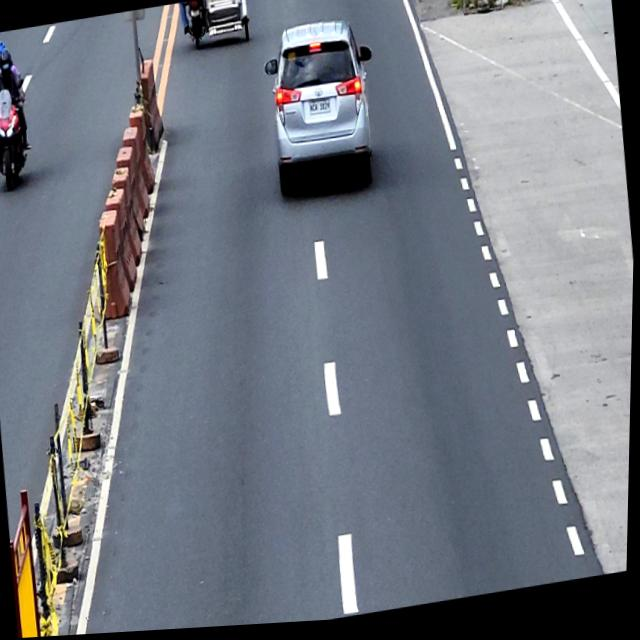Car: (258, 15, 386, 203)
License-Plate: (307, 100, 332, 120)
Motorcycle: (0, 71, 36, 192)
Tricycle: (178, 0, 254, 54)
